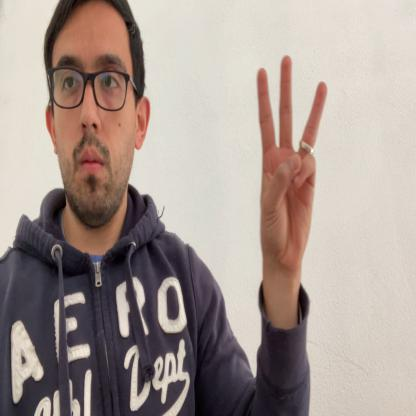W: (257, 53, 327, 275)
